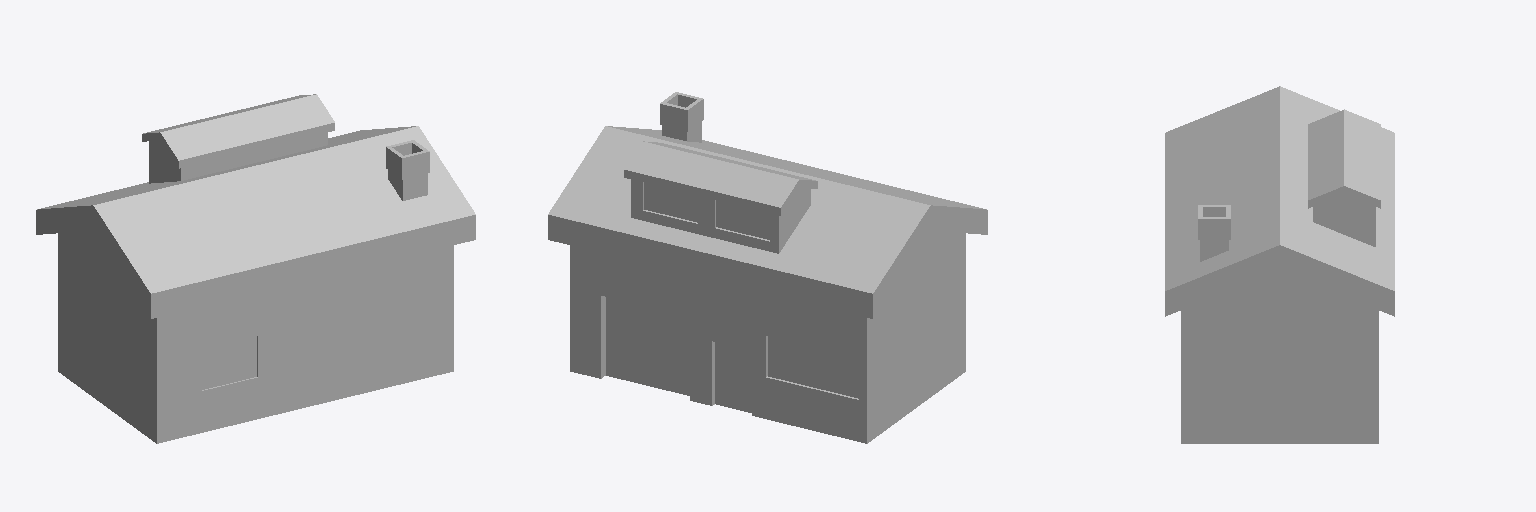
File: SmallHouse 2.obj
The picture shows the model from 3 angles: view 1: azimuth 30°, elevation 25°; view 2: azimuth 150°, elevation 25°; view 3: azimuth 270°, elevation 25°; orthographic projection.
Visible parts, largest first — view 1: Cube_Cube.004; view 2: Cube_Cube.004; view 3: Cube_Cube.004.
Boxes of the visible parts, box(x1,y1,x2,y2) form: Cube_Cube.004: box(36, 94, 475, 443); Cube_Cube.004: box(548, 92, 987, 443); Cube_Cube.004: box(1165, 86, 1394, 443).
Size of the model in its own units: 3.8 by 2.58 by 2.33.